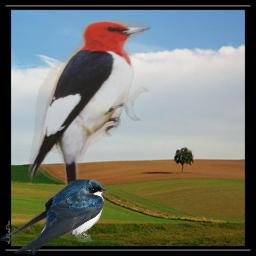Swallow: (0, 178, 106, 255)
Woodpecker: (28, 19, 151, 219)
